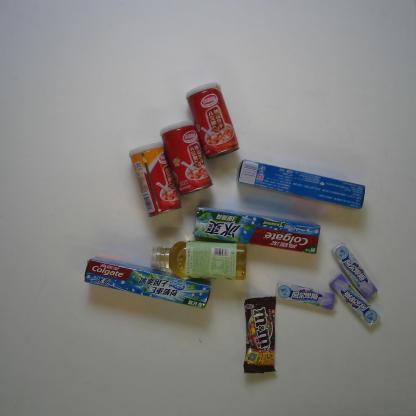Candy: (328, 240, 379, 301), (327, 272, 382, 328), (273, 279, 337, 311)
Canned Food: (124, 139, 184, 220), (183, 80, 242, 162), (157, 117, 215, 198)
Chocolate: (240, 294, 279, 376)
Drink: (148, 236, 250, 284)
Personal Hygiene: (81, 254, 213, 310), (233, 158, 368, 212), (190, 204, 322, 257)
